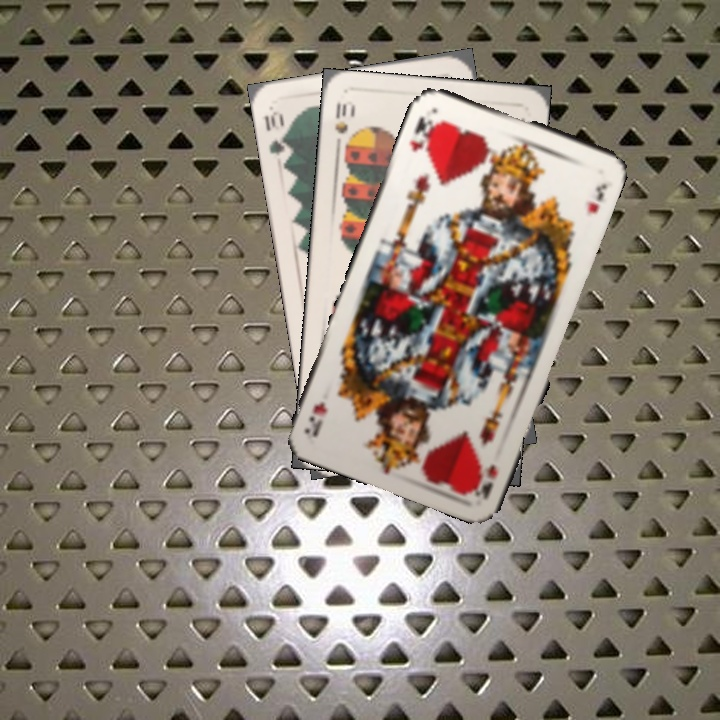G10: (260, 107, 293, 163)
HK: (405, 112, 439, 155), (471, 460, 500, 501)
S10: (331, 96, 355, 154)
